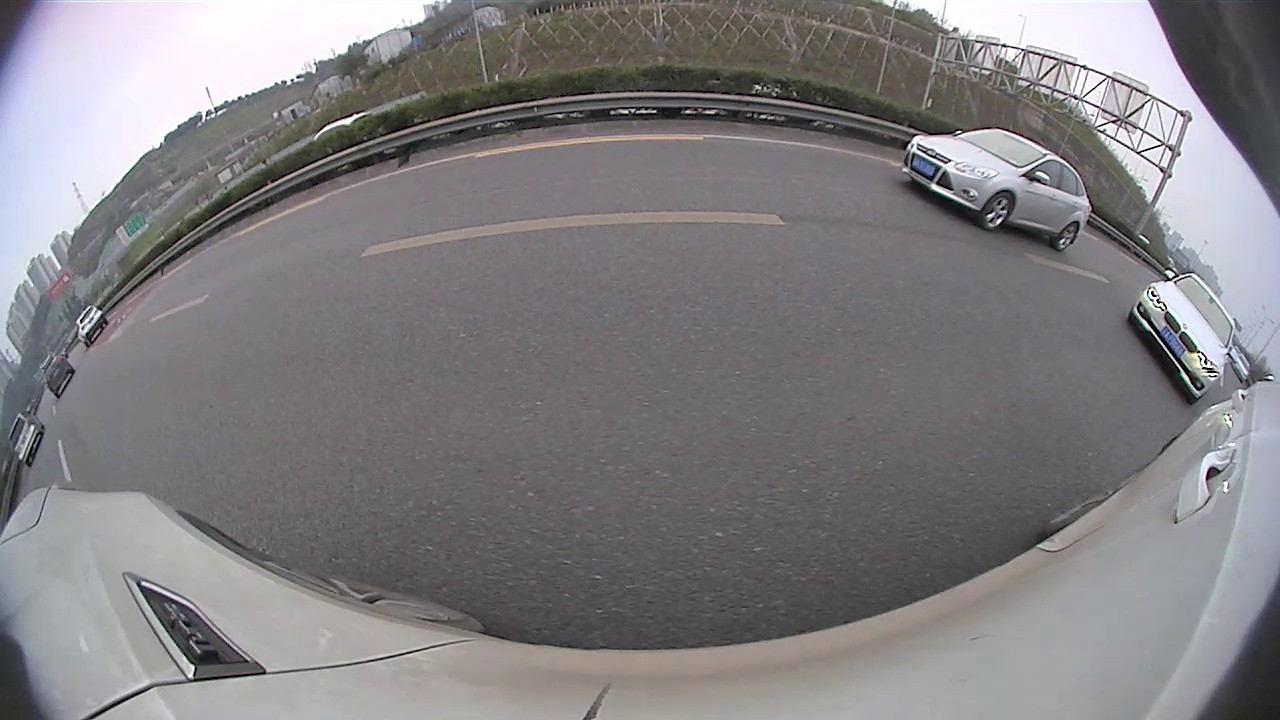car: (1140, 247, 1278, 397), (751, 144, 933, 244), (377, 153, 536, 241), (933, 190, 1037, 252), (615, 152, 677, 196), (684, 158, 721, 185), (568, 161, 602, 188)
front: (1156, 313, 1198, 358), (753, 185, 768, 211), (523, 184, 534, 211)
rear: (808, 197, 831, 234), (973, 221, 998, 246), (478, 194, 493, 230)
